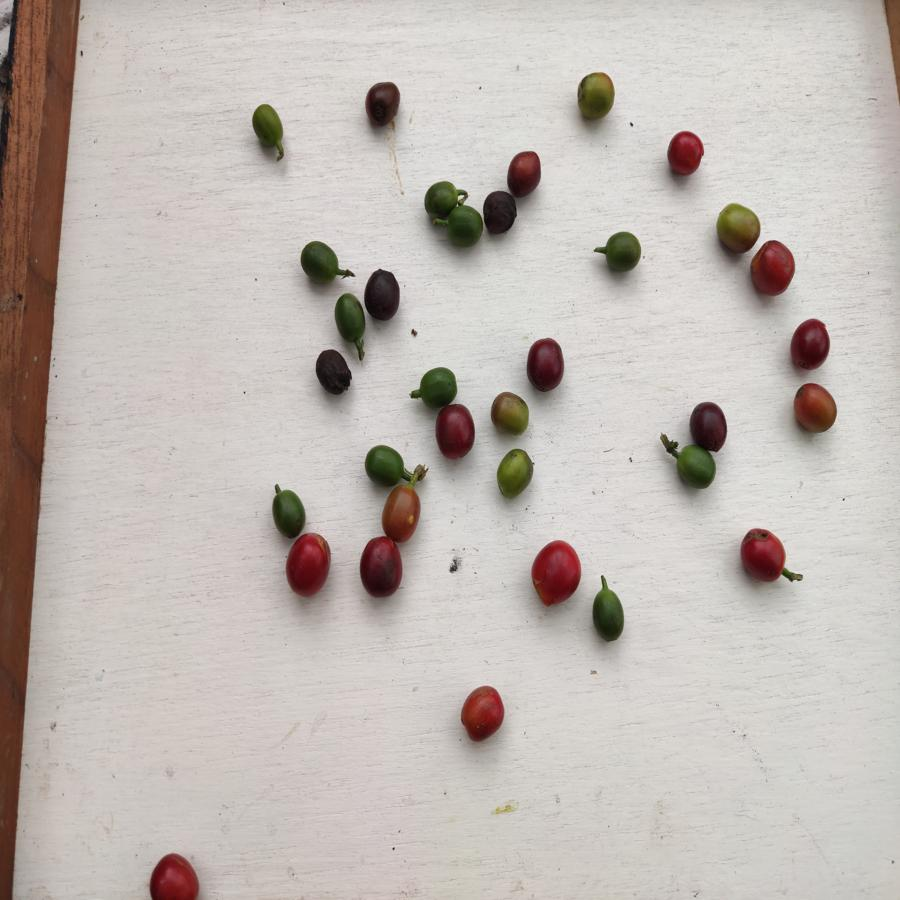Inmaduro: (591, 589, 629, 646), (603, 226, 643, 277), (298, 239, 341, 286), (269, 488, 307, 539), (363, 443, 406, 487), (677, 446, 717, 491), (333, 293, 367, 342), (416, 367, 459, 404), (446, 204, 483, 245), (251, 105, 287, 147), (424, 182, 460, 215)
Maduro: (530, 538, 583, 607), (456, 685, 507, 741), (750, 238, 797, 298), (287, 533, 331, 595), (739, 527, 786, 584), (149, 853, 202, 900), (665, 130, 704, 175)
Pinton: (792, 382, 839, 434), (494, 444, 539, 497), (715, 201, 759, 251), (380, 486, 421, 538), (577, 70, 617, 123), (489, 389, 531, 435)
Sobremaduro: (359, 539, 404, 601), (433, 405, 477, 459), (790, 317, 832, 373), (527, 338, 565, 394), (689, 401, 728, 452), (364, 269, 402, 321), (315, 347, 355, 395), (363, 81, 401, 127), (506, 150, 543, 196), (483, 193, 518, 233)
